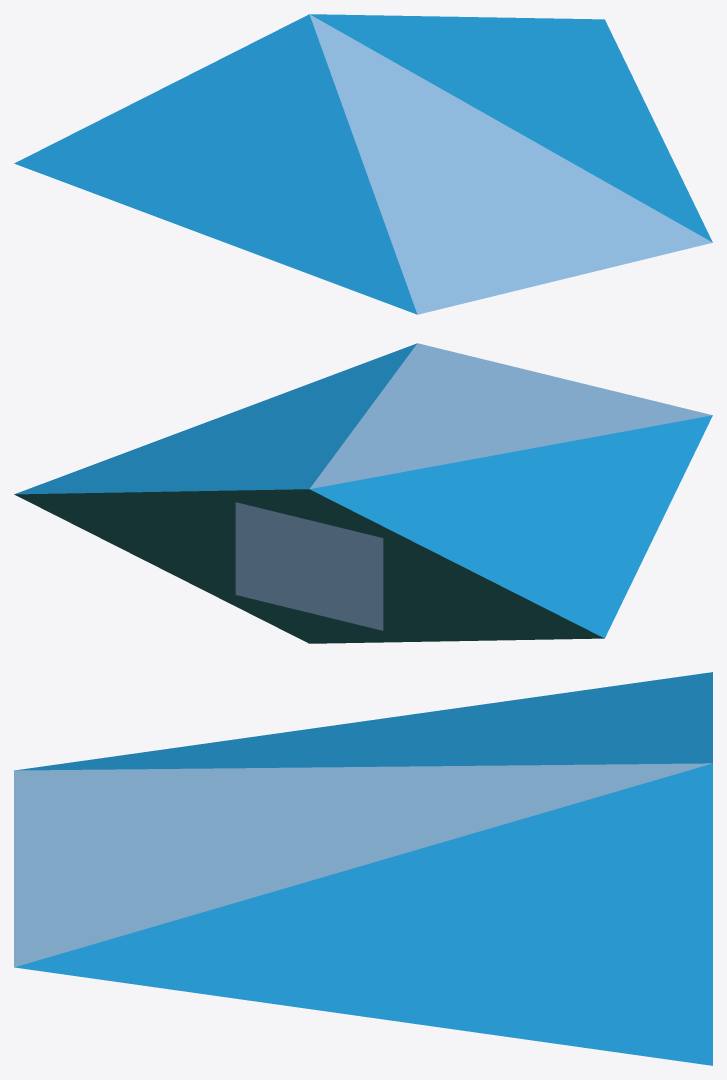
Rendered from arc_sidewinder.glb.
The picture shows the model from 3 angles, top to bottom: view 1: azimuth 30°, elevation 25°; view 2: azimuth 150°, elevation 25°; view 3: azimuth 270°, elevation 25°; orthographic projection. The views are drawn at different scales.
Visible parts, largest first — view 1: griff_arcelite_sidewinderv2; view 2: griff_arcelite_sidewinderv2, griff_arcelite_sidewinderv2.001; view 3: griff_arcelite_sidewinderv2.
Boxes of the visible parts, x1,y1,x2,y2 form: griff_arcelite_sidewinderv2: [14, 14, 712, 314]; griff_arcelite_sidewinderv2: [14, 343, 712, 643]; griff_arcelite_sidewinderv2.001: [235, 502, 383, 630]; griff_arcelite_sidewinderv2: [14, 672, 712, 1065].
Bounding box in the file's own units: 0.6168 × 0.1542 × 0.4626.
1 material, 1 textured.
